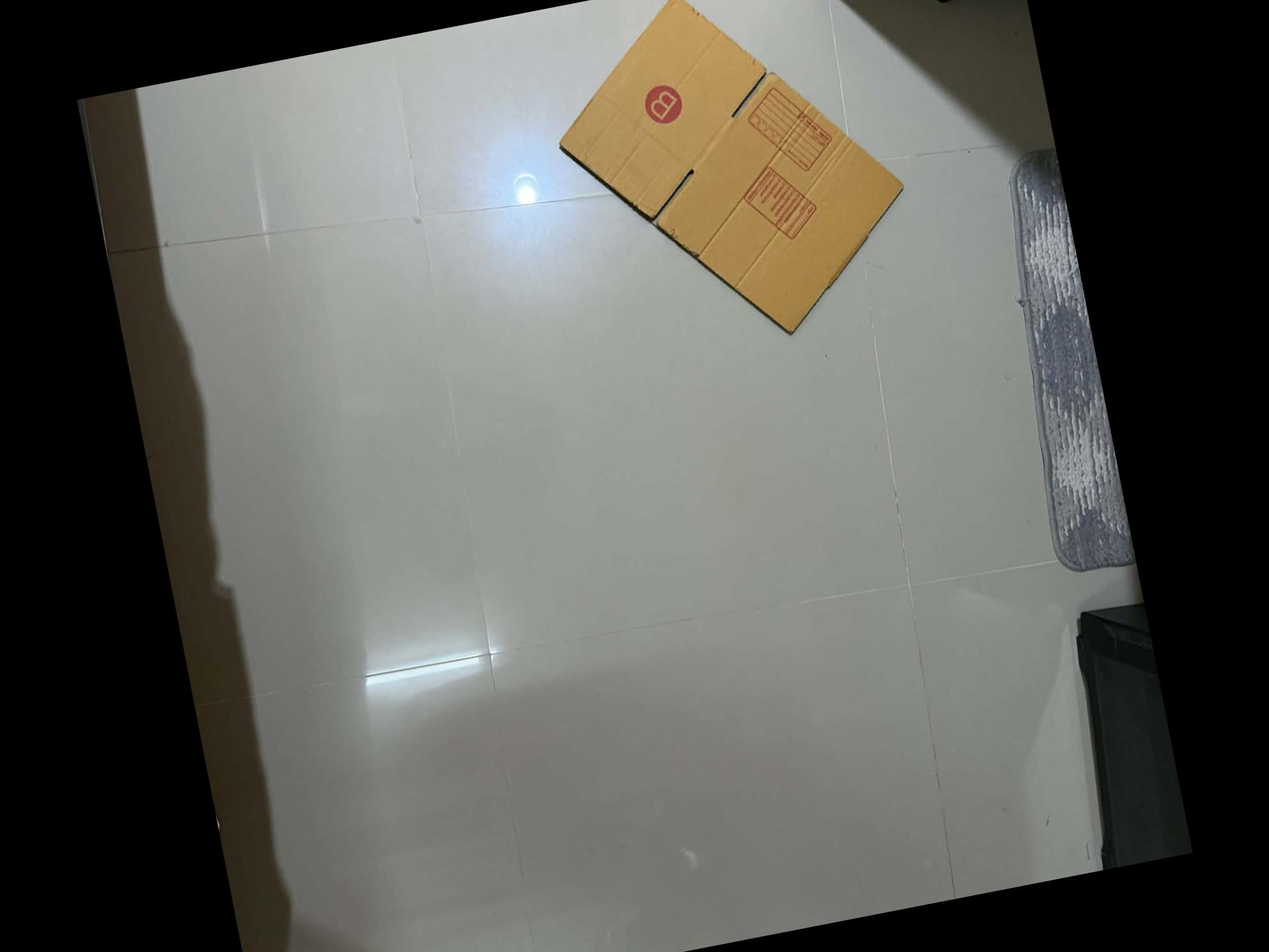box: (739, 70, 840, 178), (740, 156, 824, 249), (643, 83, 687, 126)
class0: (530, 0, 934, 378)
